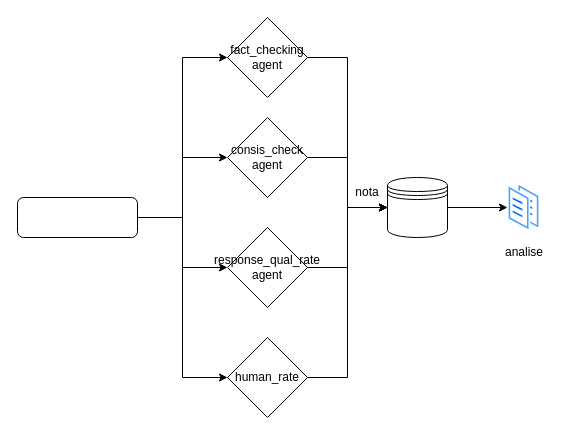
Some shapes in this 571 by 435 pixel diagram are drawn without their labels. Each missing label, with the centre of its shape:
armazena dados: the point at 417,207
response do agent: the point at 77,217
